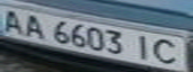0: (84, 25, 106, 53)
3: (103, 27, 130, 56)
6: (48, 18, 72, 45), (66, 21, 87, 48)
A: (18, 11, 48, 39), (0, 7, 30, 34)
C: (148, 36, 187, 66)
I: (127, 33, 160, 62)
